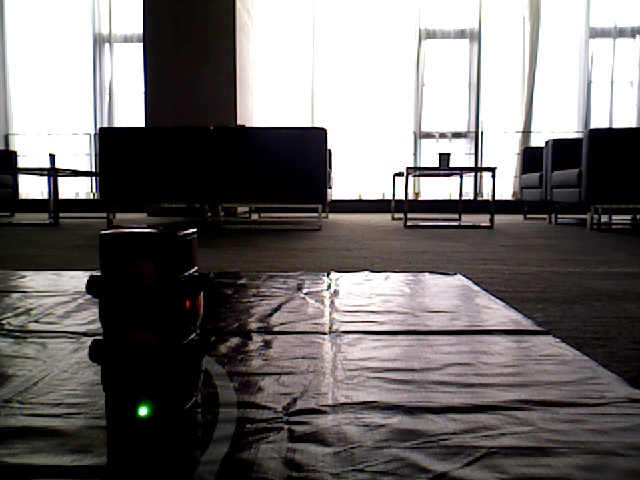green: (103, 235, 201, 428)
